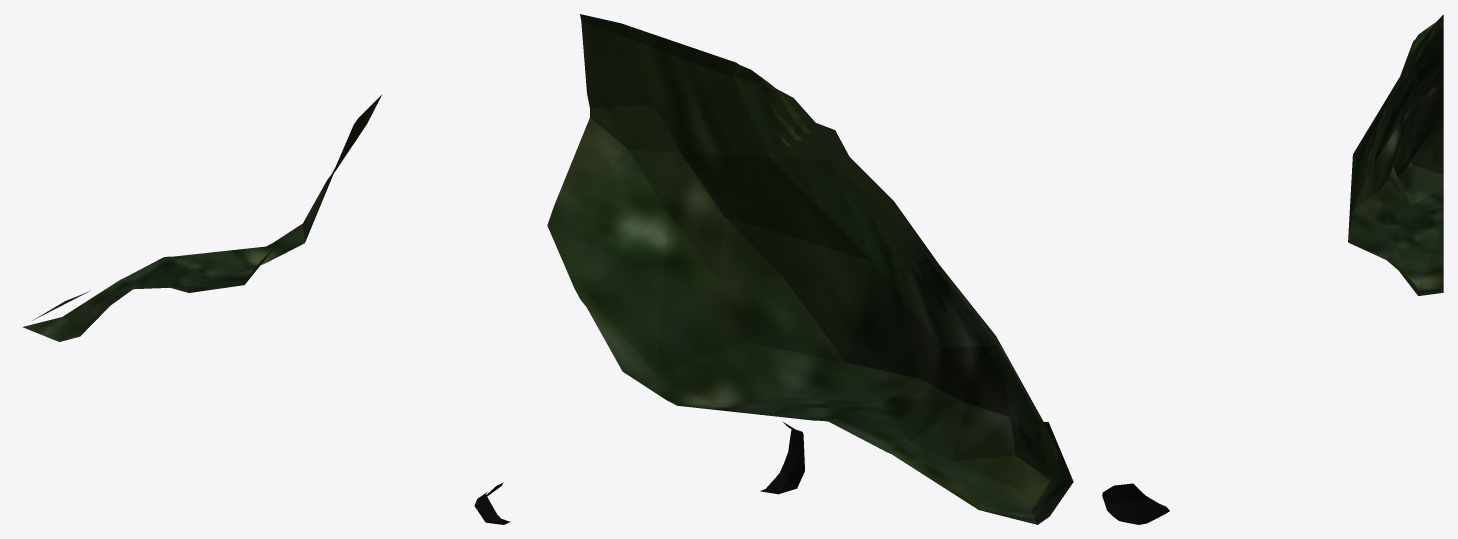
3 renders of one model, left to right at view 1: azimuth 30°, elevation 25°; view 2: azimuth 150°, elevation 25°; view 3: azimuth 270°, elevation 25°, orthographic. The views are drawn at different scales.
Bounding box in the file's own units: 0.5522 × 0.6443 × 0.4651.
1 material, 1 textured.
